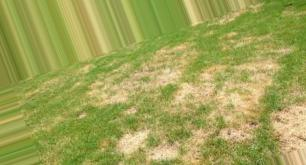patch: (151, 54, 182, 93), (228, 74, 258, 108), (280, 106, 306, 145), (99, 75, 133, 104), (154, 143, 190, 161), (122, 133, 149, 154)
